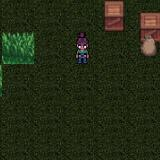Hide: (95, 0, 132, 36)
Obstacle: (123, 1, 160, 59)
Slow: (2, 32, 34, 64)
Victim: (68, 31, 97, 68)
